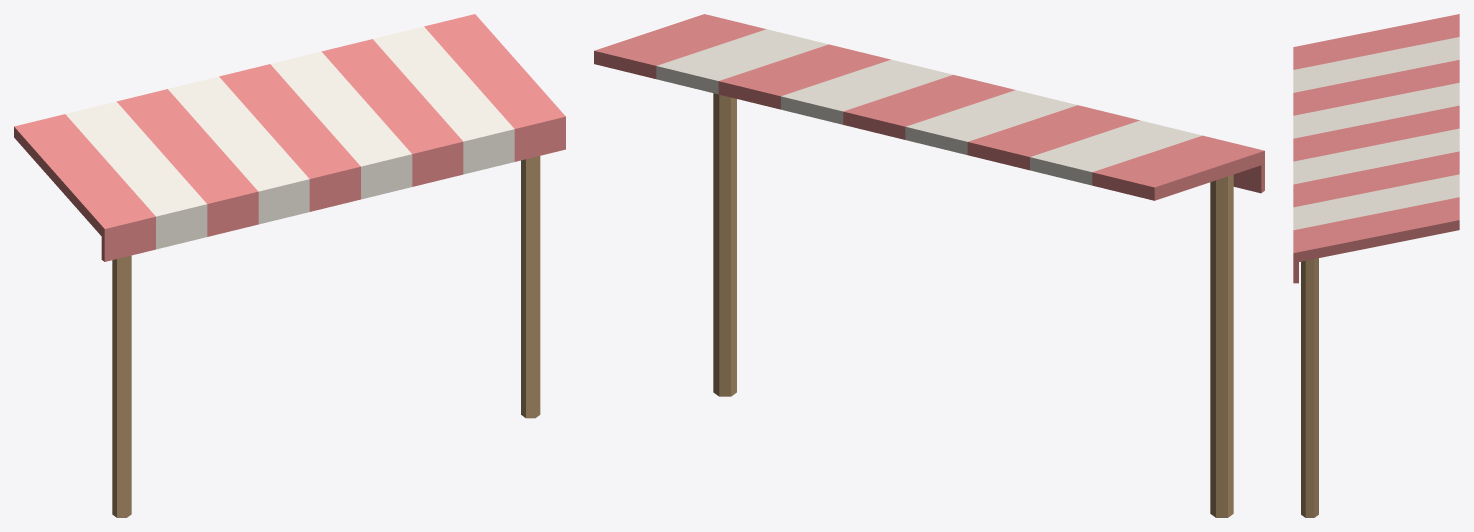
The model's file is awning_w4_4.glb.
The picture shows the model from 3 angles, left to right: view 1: azimuth 30°, elevation 25°; view 2: azimuth 150°, elevation 25°; view 3: azimuth 270°, elevation 25°; orthographic projection. The views are drawn at different scales.
Parts seen in each view (by area): view 1: Player; view 2: Player; view 3: Player.
Boxes of the visible parts, x1=… form: Player: x1=14, y1=14, x2=565, y2=517; Player: x1=594, y1=14, x2=1264, y2=517; Player: x1=1293, y1=14, x2=1459, y2=517.
Size of the model in its own units: 4.4 by 3.05 by 1.5.
